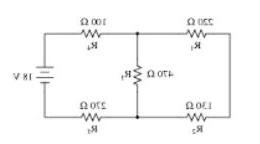resistor: (74, 108, 109, 125), (71, 25, 105, 38), (176, 110, 212, 122), (182, 26, 215, 37)
